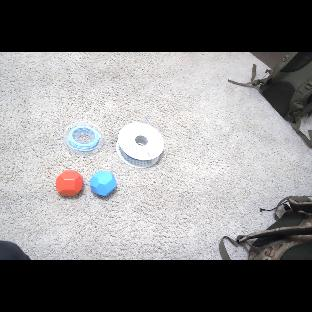V5_BLUE: (90, 169, 117, 198)
V5_RED: (56, 170, 83, 196)
